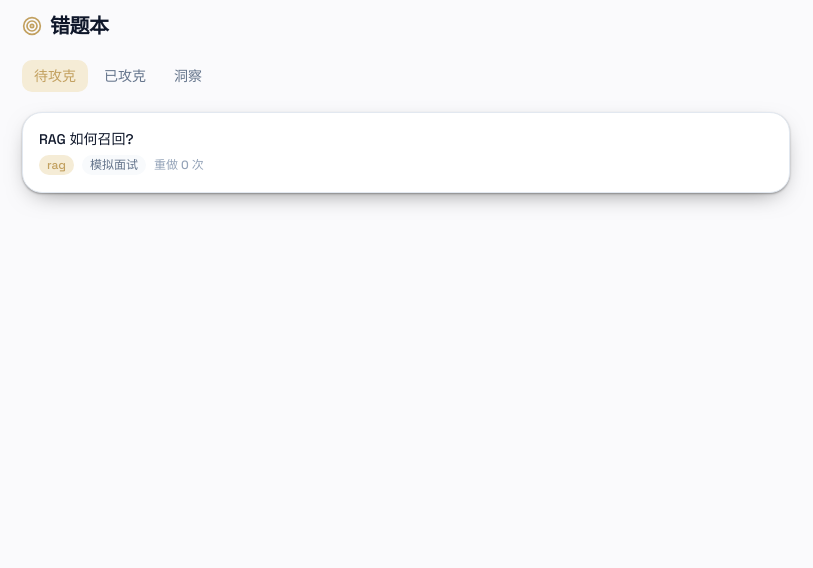
Test: ErrorBook › redo flow: expand, write answer, submit, see pass verdict
Click the text "RAG 如何召回?".
click(86, 139)  # box 39,130 -> 134,148
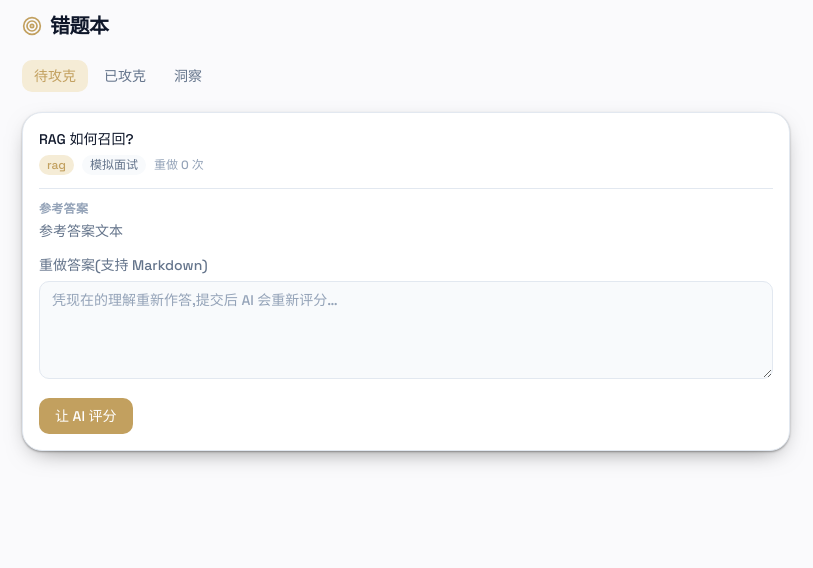
Type "我的新答案" into the text box labelled "重做答案(支持 Markdown)".
click(406, 330); type("我的新答案")  # box 39,281 -> 773,379
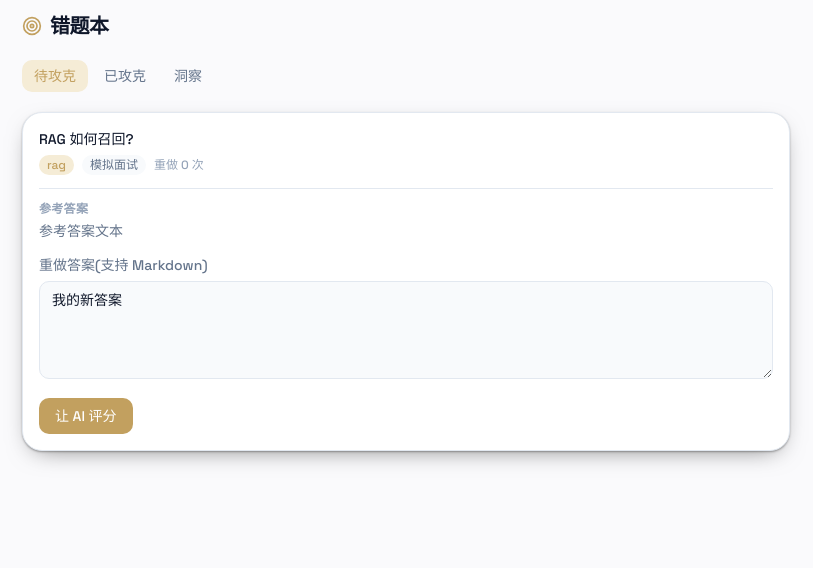
Click the button "让 AI 评分".
click(86, 416)  # box 39,398 -> 132,434
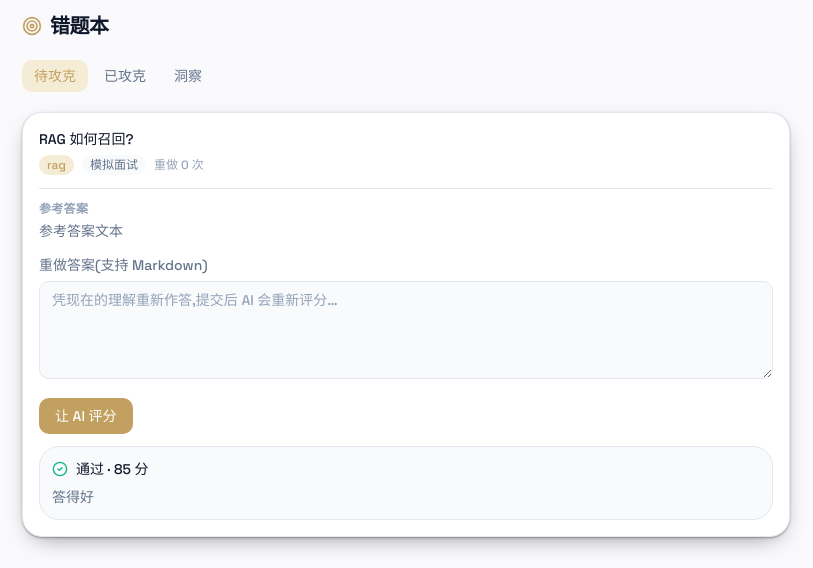
Expected: the text "答得好" is shown, 52,488 -> 94,506
Expected: the text "通过 · 85 分" is shown, 76,459 -> 148,479
